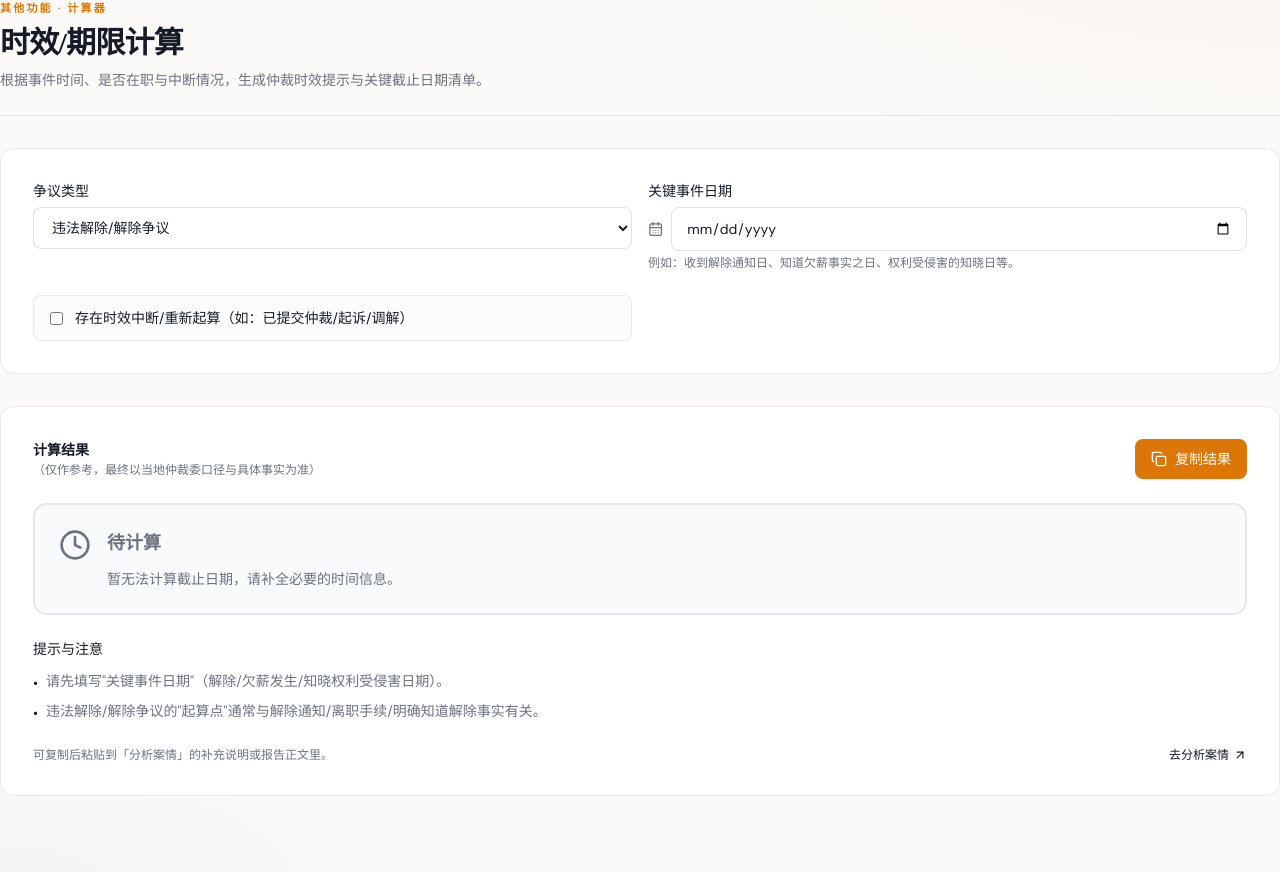
Test: LimitationCalculator › calculates for wage_in_service when no longer employed
The image size is (1280, 872).
Step 1. Select "在职欠薪（劳动关系存续）" in the dropdown → (332, 228), box [33,207,632,249]
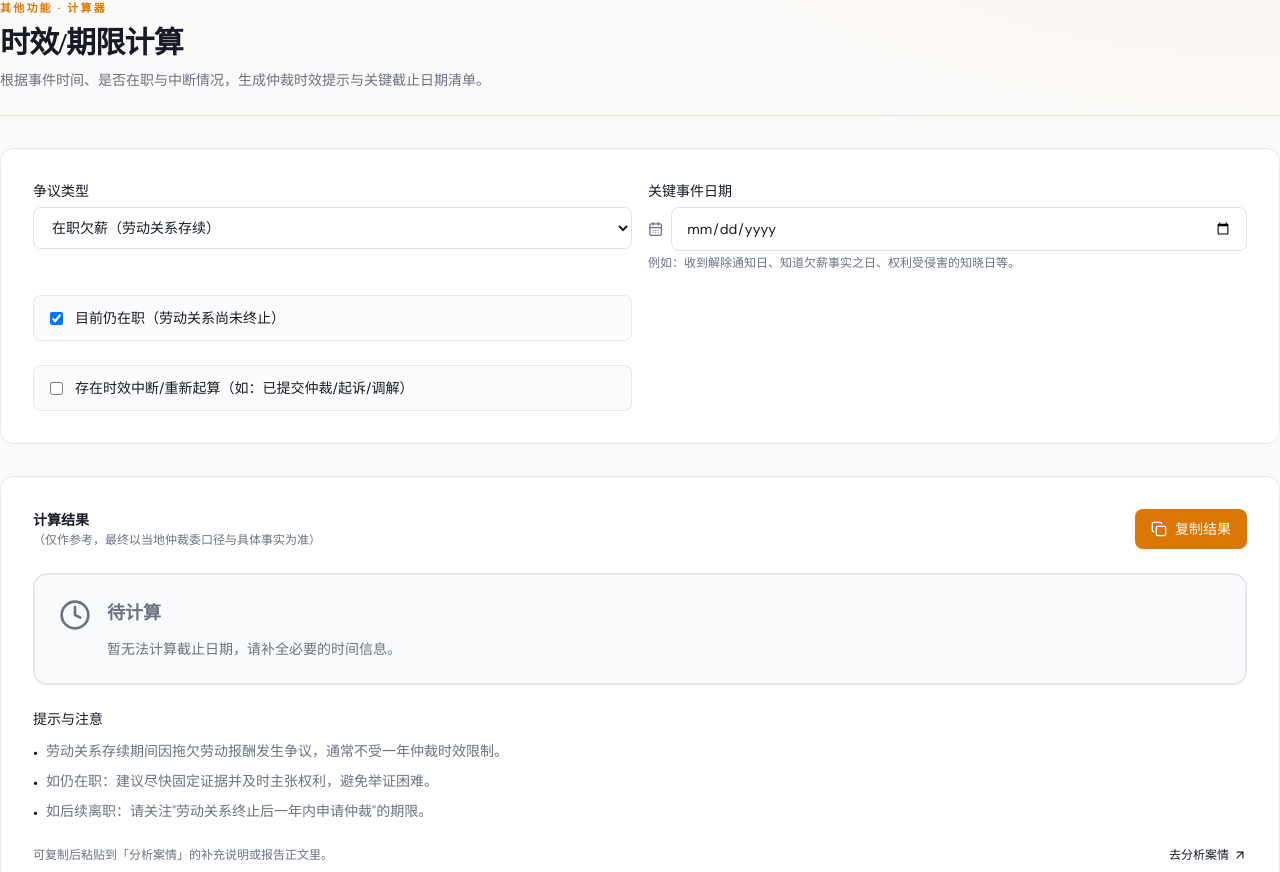
Step 2. Click the checkbox labelled "目前仍在职（劳动关系尚未终止）" → (56, 318), box [50,312,63,325]
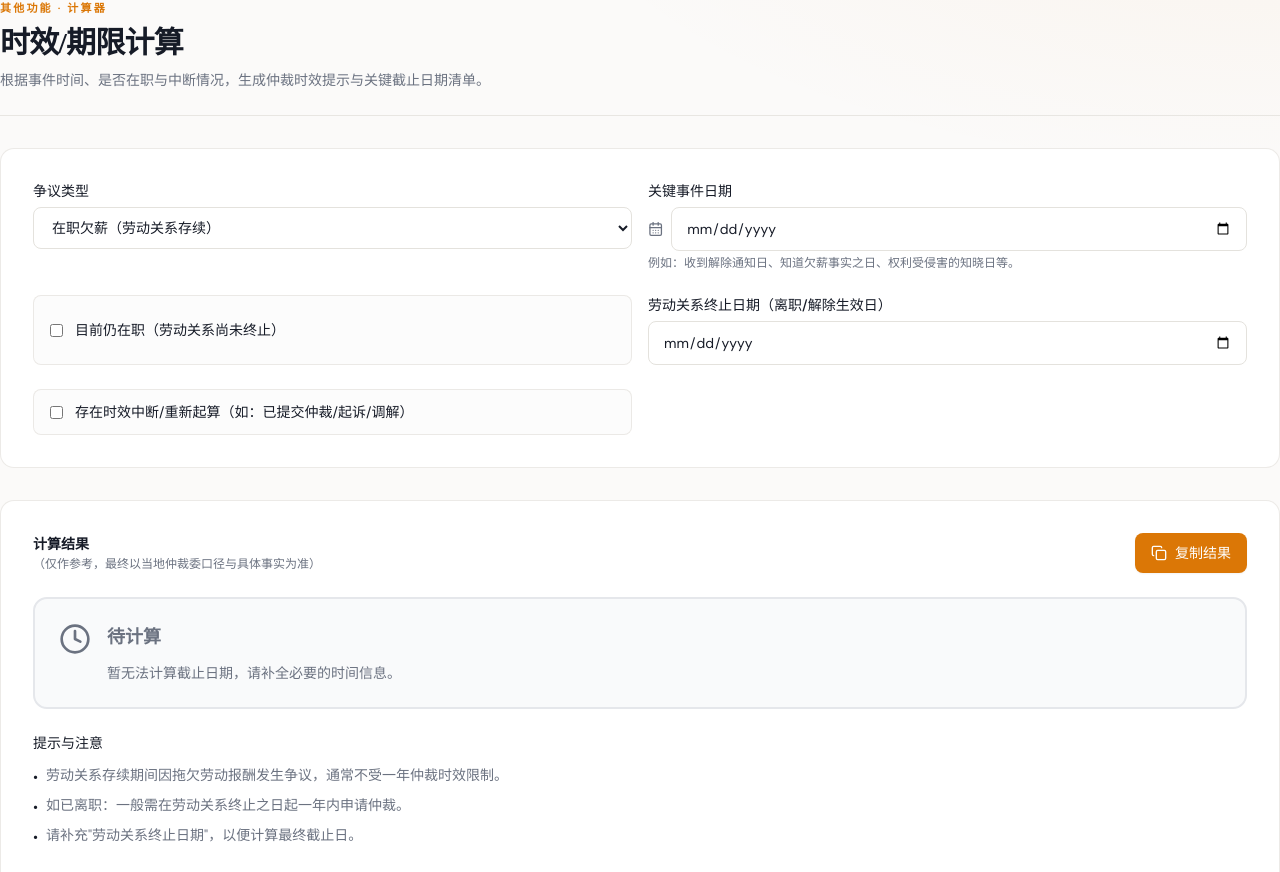
Step 3. Type "2024-06-01" into the date field below "劳动关系终止日期（离职/解除生效日）" → (948, 343), box [648,321,1247,365]
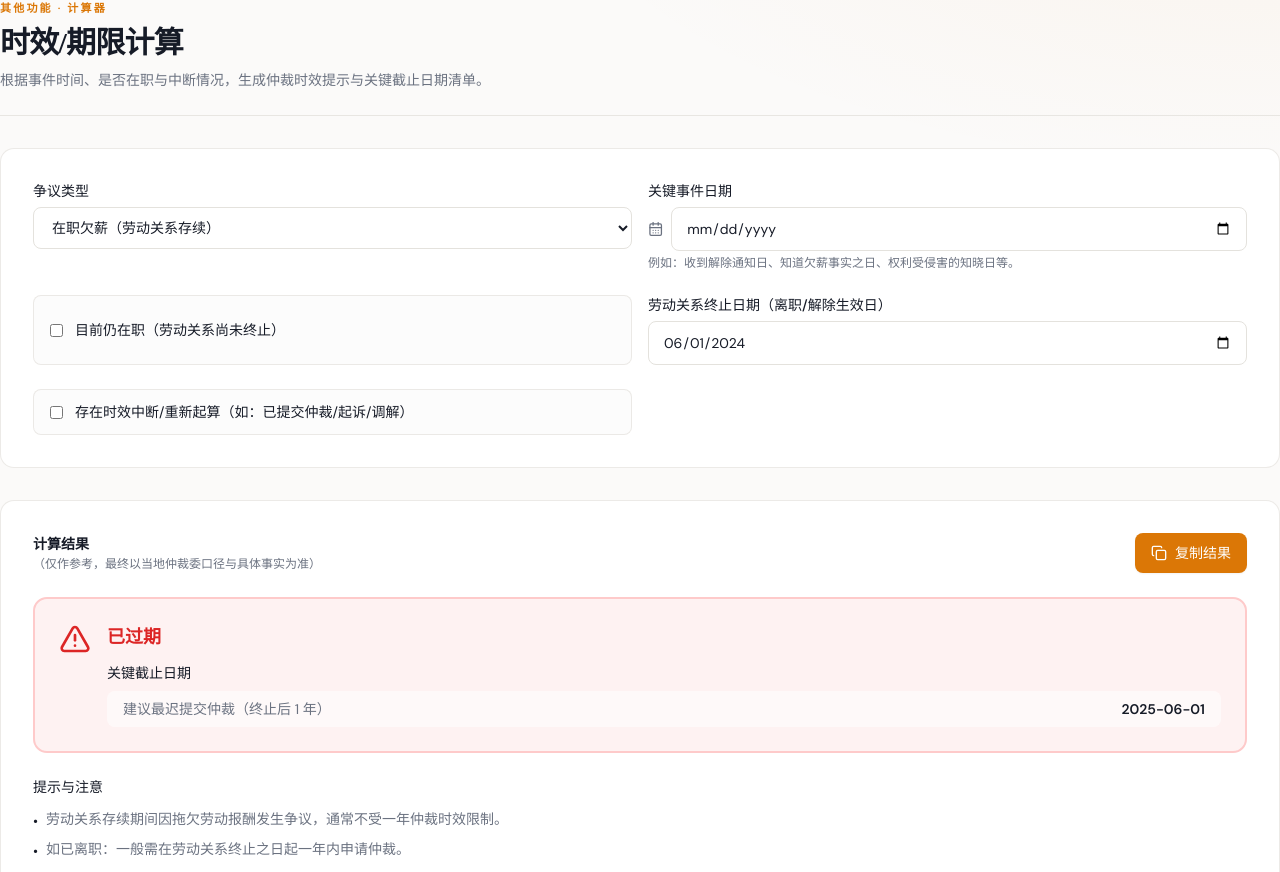
Now the text "2025-06-01" is shown, box [1122,699,1205,719]
